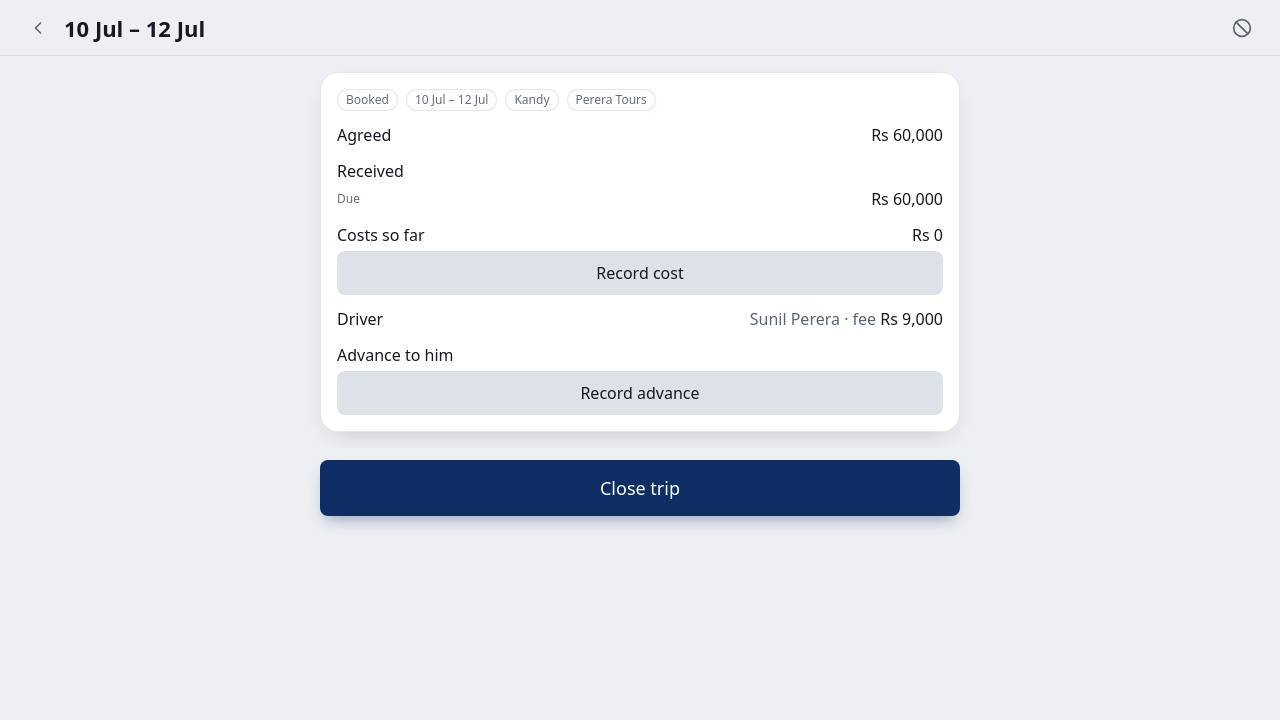
GAP-57 — tapping the outstanding Received row opens the collect-payment sheet
Click the button "Due Rs 60,000": (918, 199) [337,187,943,211]
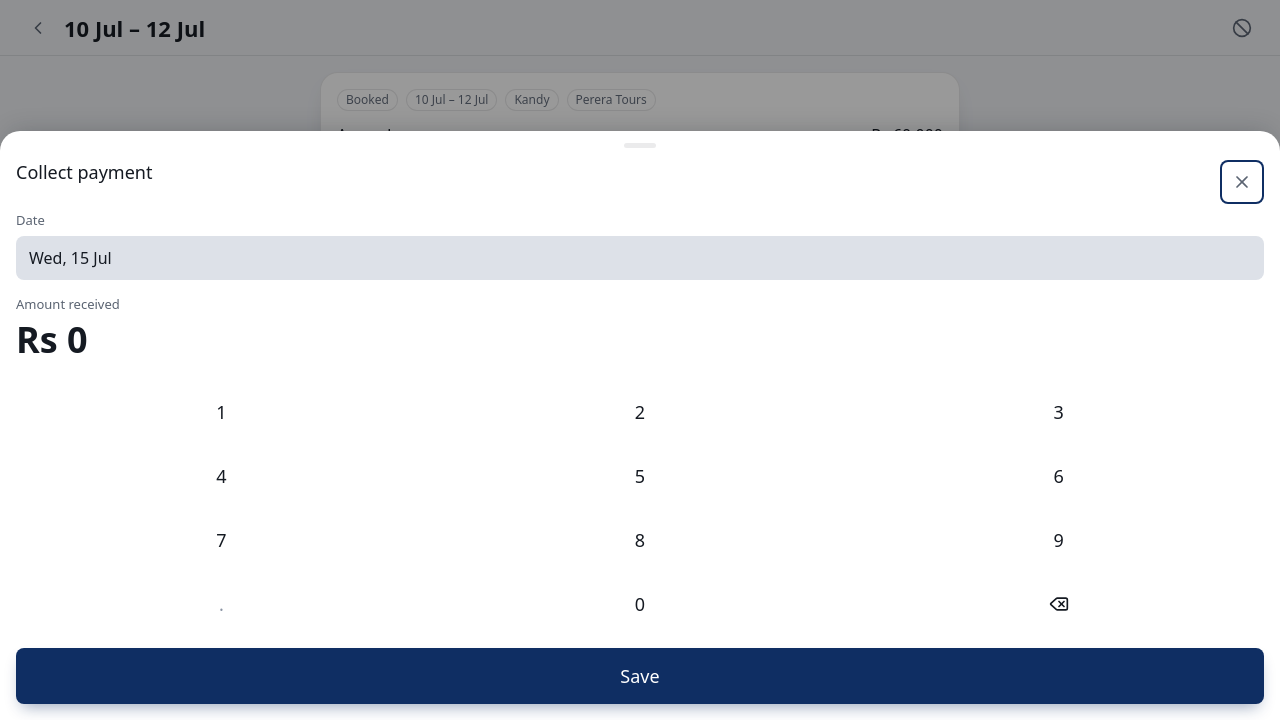
Expected: the heading "Collect payment" is shown, [16,160,152,184]
